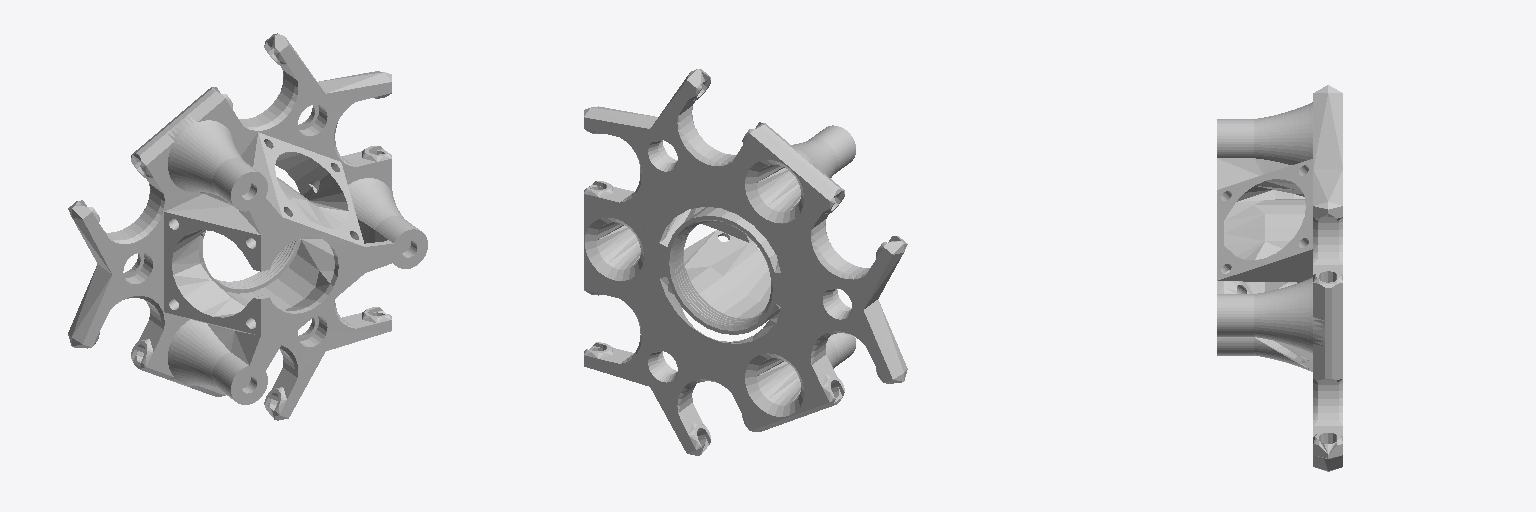
File: Carriage v6.obj
3 views of the same model, side by side, from view 1: azimuth 30°, elevation 25°; view 2: azimuth 150°, elevation 25°; view 3: azimuth 270°, elevation 25° (orthographic).
Visible parts, largest first — view 1: Mesh1 Model; view 2: Mesh1 Model; view 3: Mesh1 Model.
Part boxes in pixels (left/top/right/bottom): Mesh1 Model: left=68, top=33, right=427, bottom=420; Mesh1 Model: left=584, top=69, right=907, bottom=455; Mesh1 Model: left=1217, top=85, right=1342, bottom=471.
Bounding box in the file's own units: 86.26 × 99.6 × 29.45.